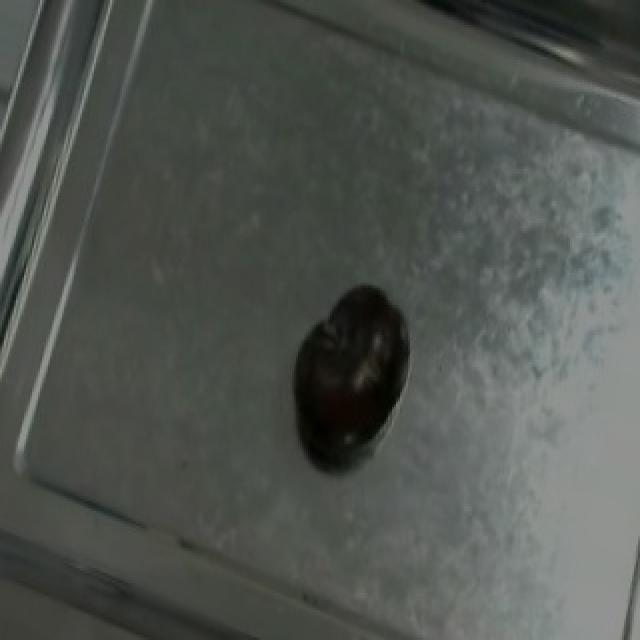Fruit: (276, 268, 412, 466)
